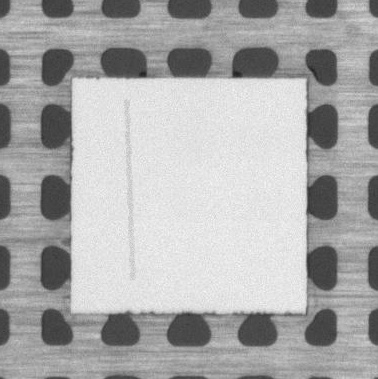DIE_CRACK: (118, 98, 138, 281)
